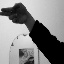h: (1, 2, 26, 25)
